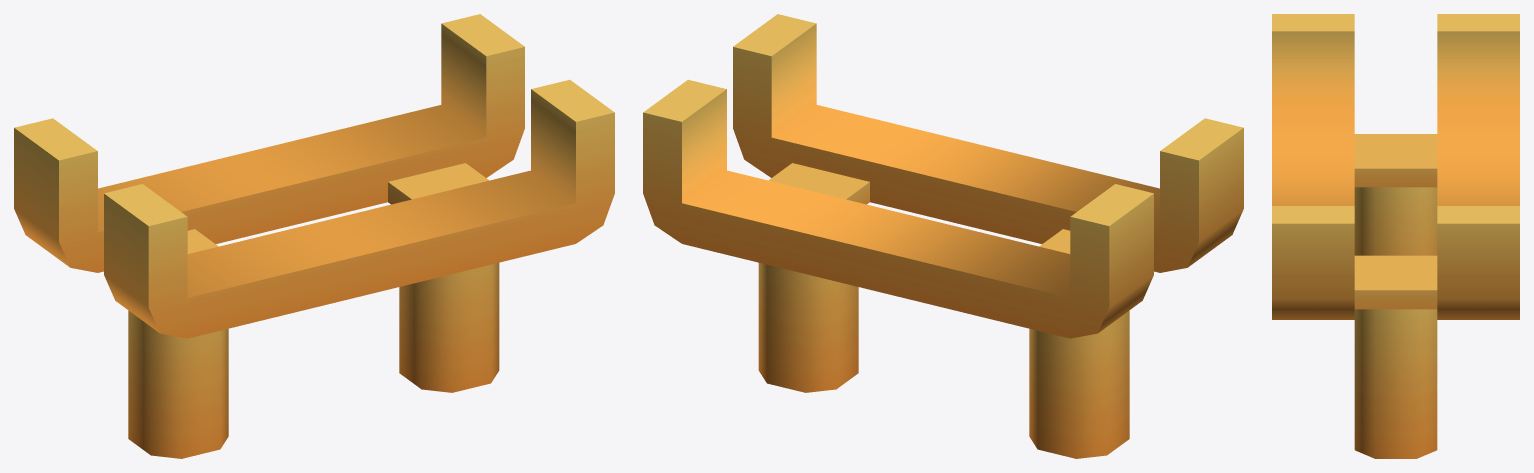
File: support-color-two-top-double.glb
3 renders of one model, left to right at view 1: azimuth 30°, elevation 25°; view 2: azimuth 150°, elevation 25°; view 3: azimuth 270°, elevation 25°, orthographic. The views are drawn at different scales.
Visible parts, largest first — view 1: support-color-two-top-double; view 2: support-color-two-top-double; view 3: support-color-two-top-double.
Boxes of the visible parts, bbox=[...] form: support-color-two-top-double: bbox=[14, 14, 614, 458]; support-color-two-top-double: bbox=[643, 14, 1243, 458]; support-color-two-top-double: bbox=[1272, 14, 1519, 458].
Bounding box in the file's own units: 1.2 × 0.7 × 0.6001.
1 material, 1 textured.
